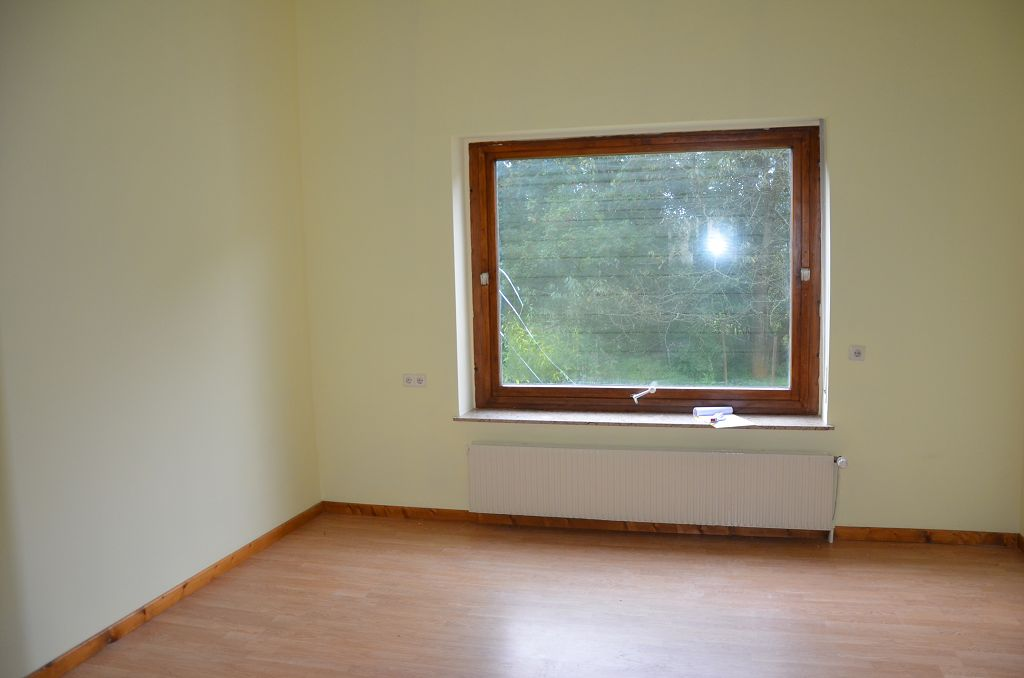windows: (465, 135, 821, 418)
